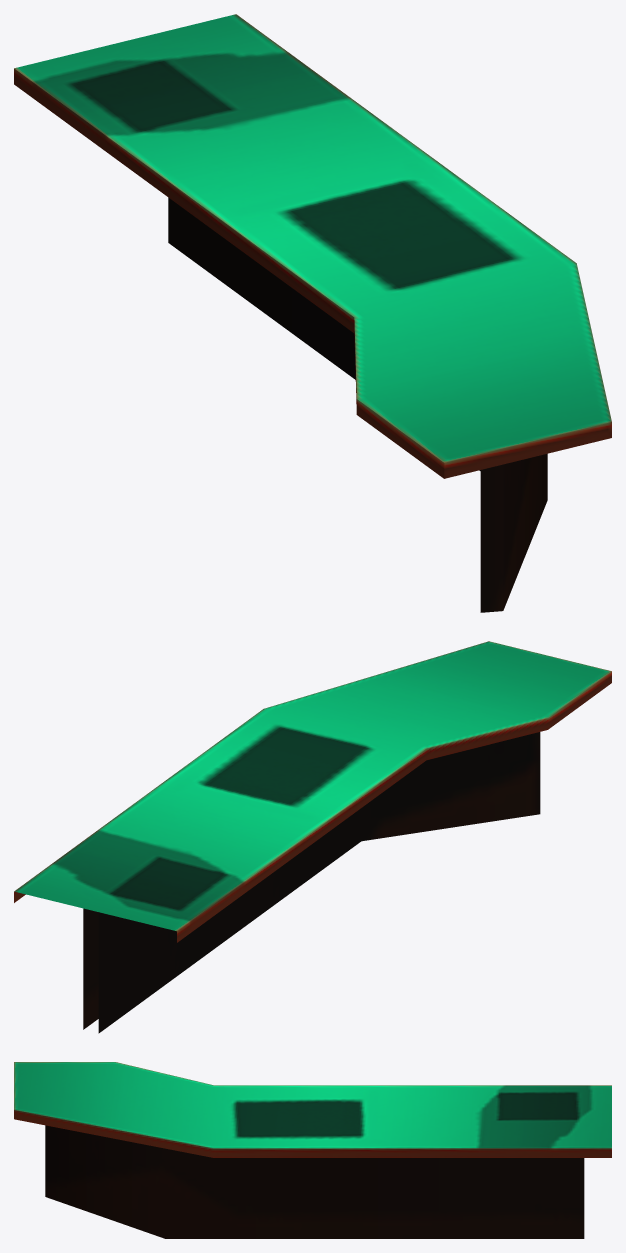
Rendered from Tx_props_medical_lecture_table.fbx.
3 views of the same model, one above another, from view 1: azimuth 30°, elevation 25°; view 2: azimuth 150°, elevation 25°; view 3: azimuth 270°, elevation 25° (orthographic). The views are drawn at different scales.
Visible parts, largest first — view 1: Tx_props_medical_lecture_table; view 2: Tx_props_medical_lecture_table; view 3: Tx_props_medical_lecture_table.
Part boxes in pixels (box(x1,y1,x2,y2)): Tx_props_medical_lecture_table: box(14, 14, 611, 612); Tx_props_medical_lecture_table: box(14, 641, 611, 1033); Tx_props_medical_lecture_table: box(14, 1062, 611, 1238).
Size of the model in its own units: 7.66 by 4.55 by 22.33.
